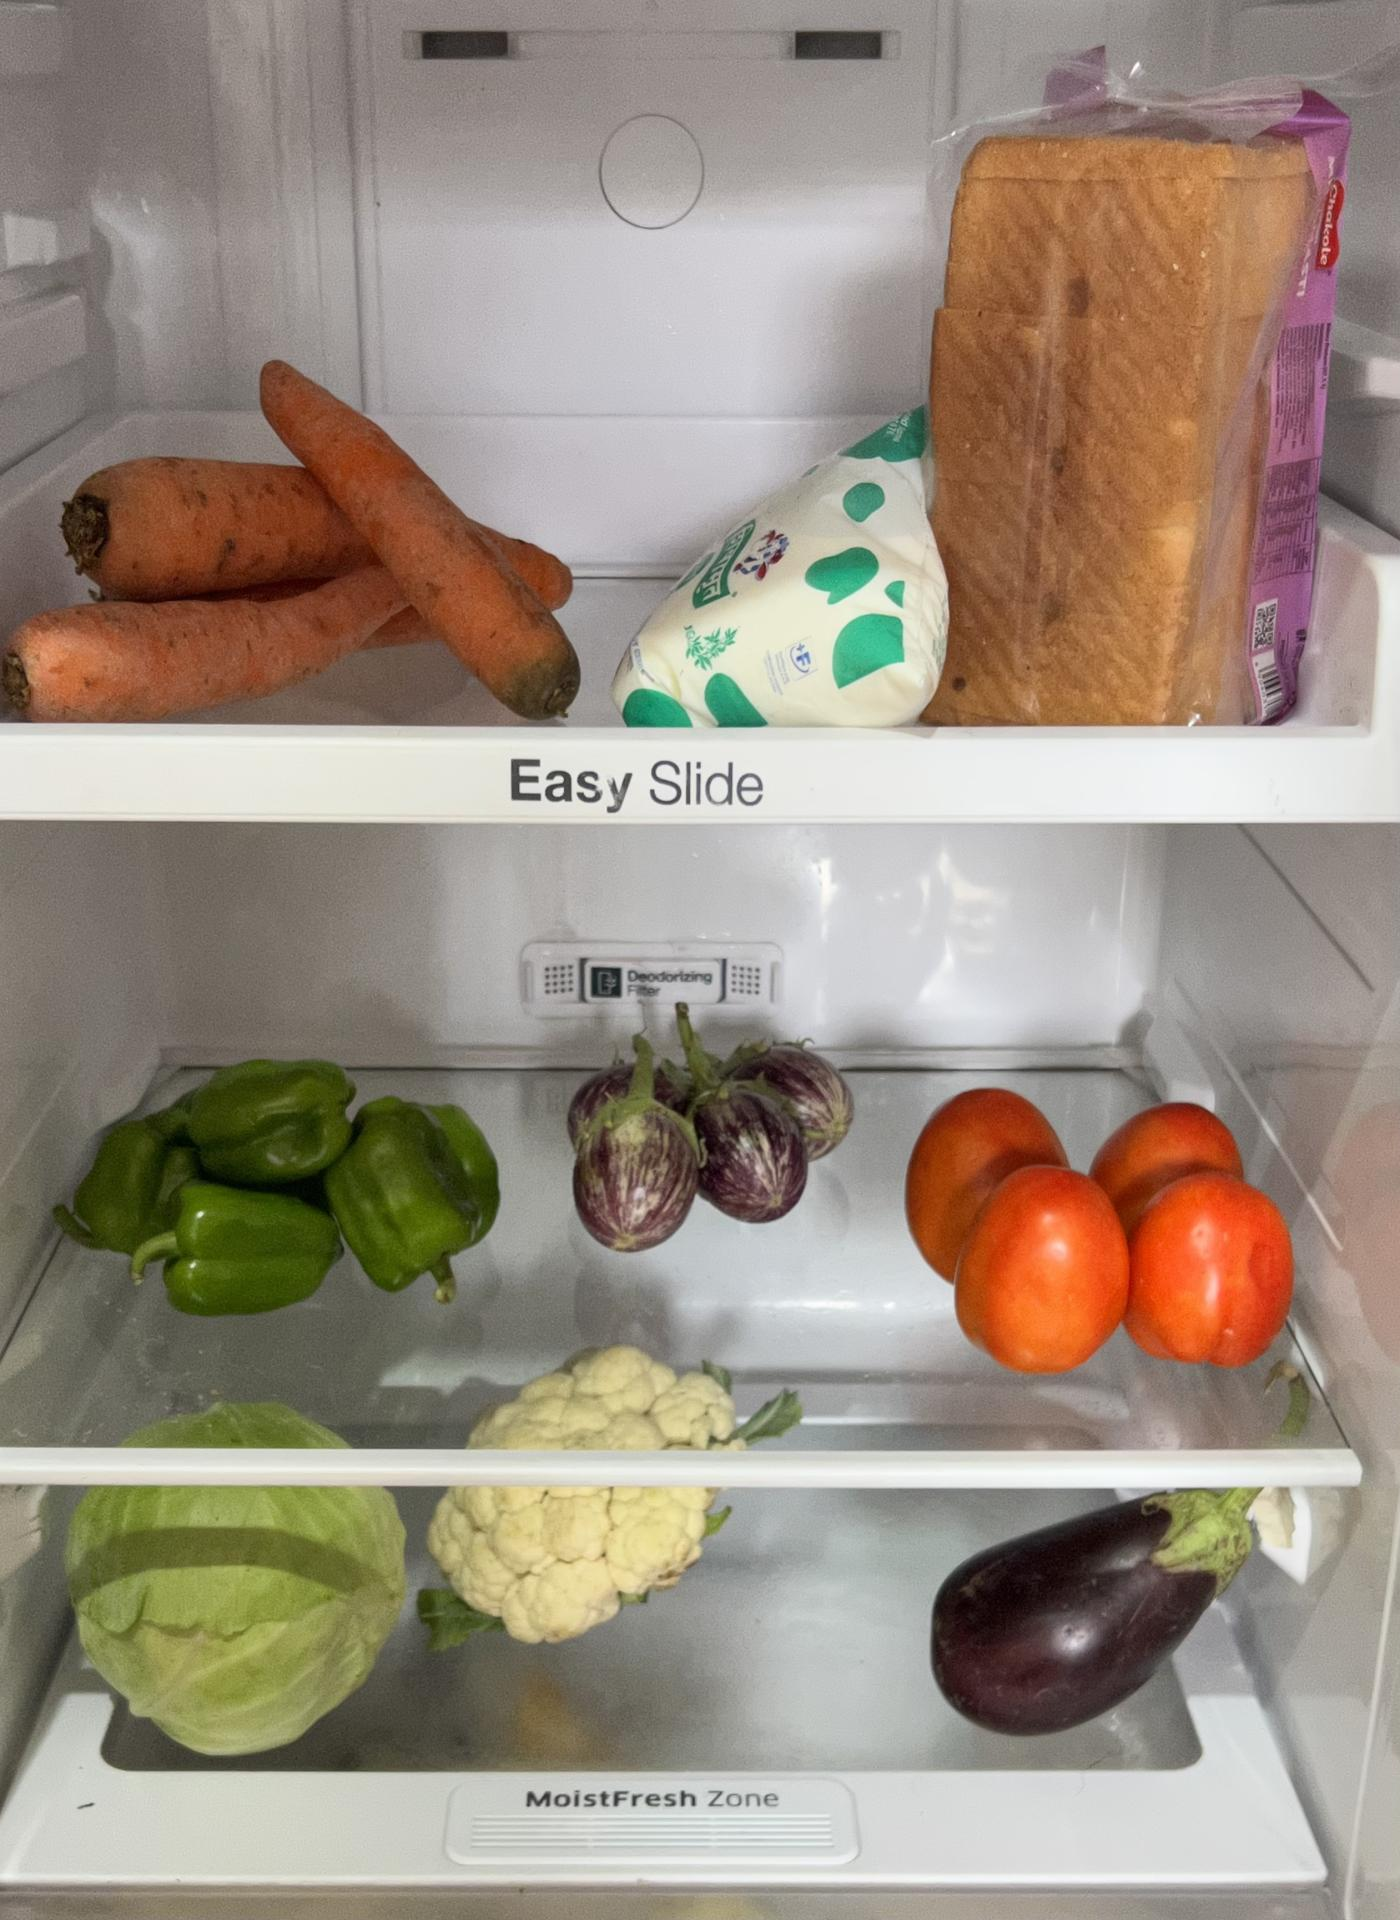bread: (930, 97, 1334, 713)
cabbage: (64, 1480, 401, 1743)
capsicum: (72, 1055, 501, 1313)
carrots: (51, 453, 570, 720)
cauliflower: (420, 1340, 745, 1628)
milk: (610, 438, 935, 724)
tomato: (906, 1084, 1287, 1368)
